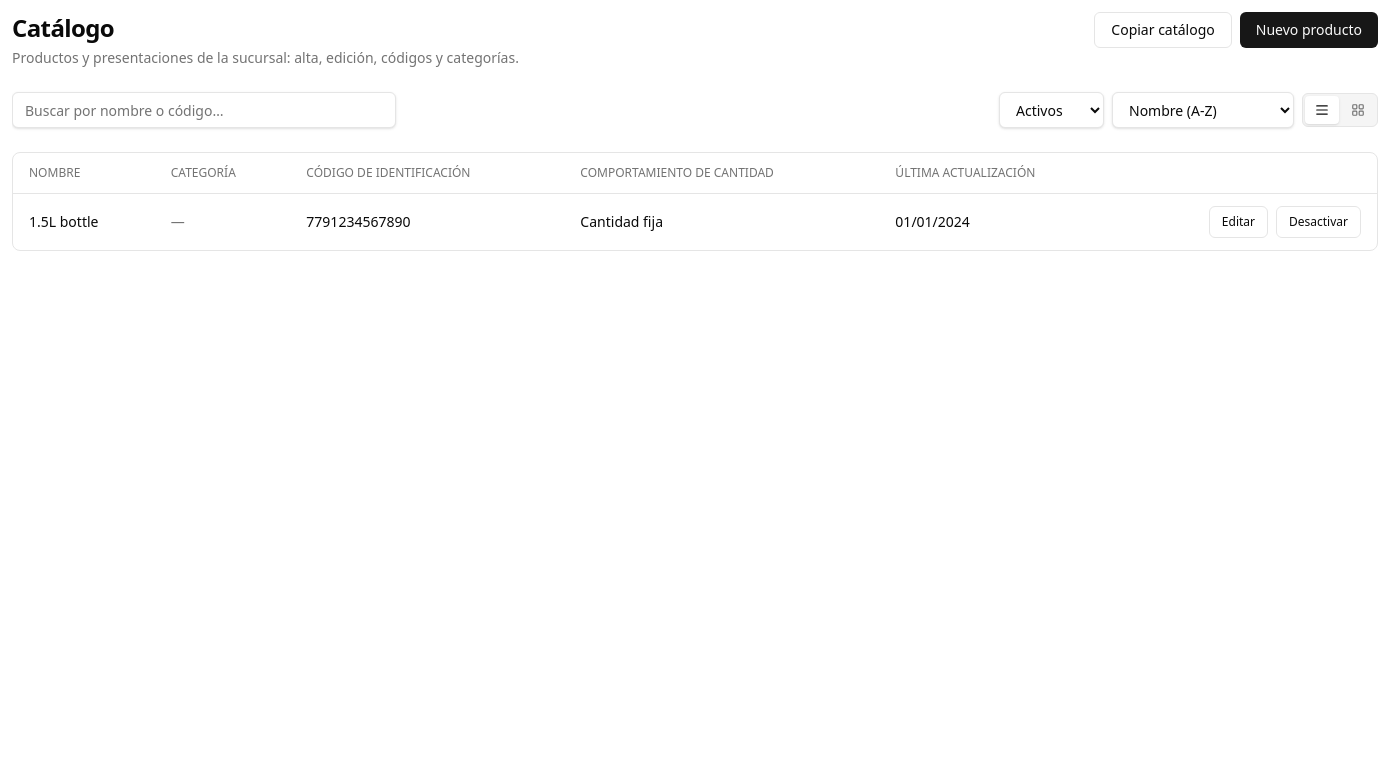
CatalogScreen — copy catalog to another branch › copies the whole catalog to the chosen branch and reports copied and skipped items
Check: the text "1.5L bottle" is shown, box [29,212,98,232]
Click the button "Copiar catálogo" at (1163, 30), box [1094,12,1232,48]
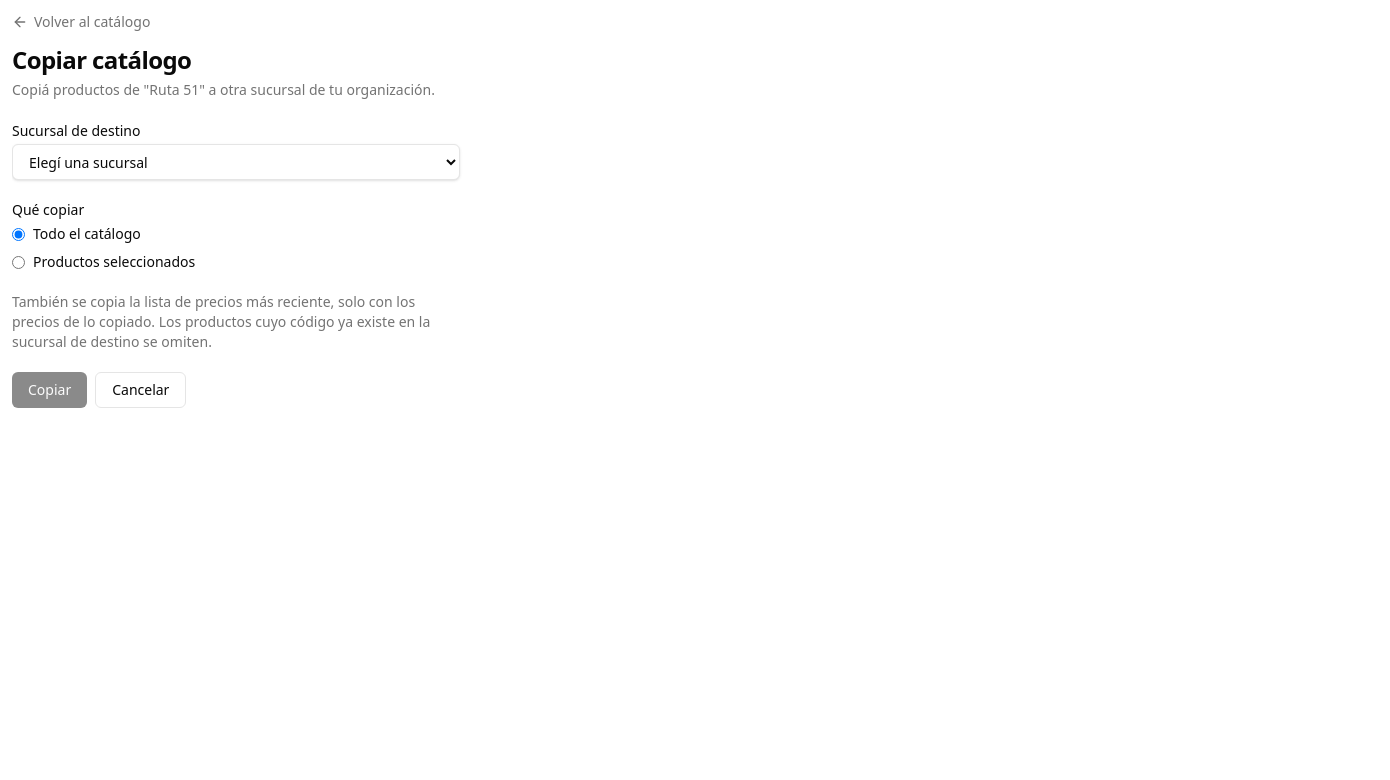
Check: the button "Copiar" is disabled, box [12,372,87,408]
Select "Centro" in the dropdown labelled "Sucursal de destino" at (236, 162), box [12,144,460,180]
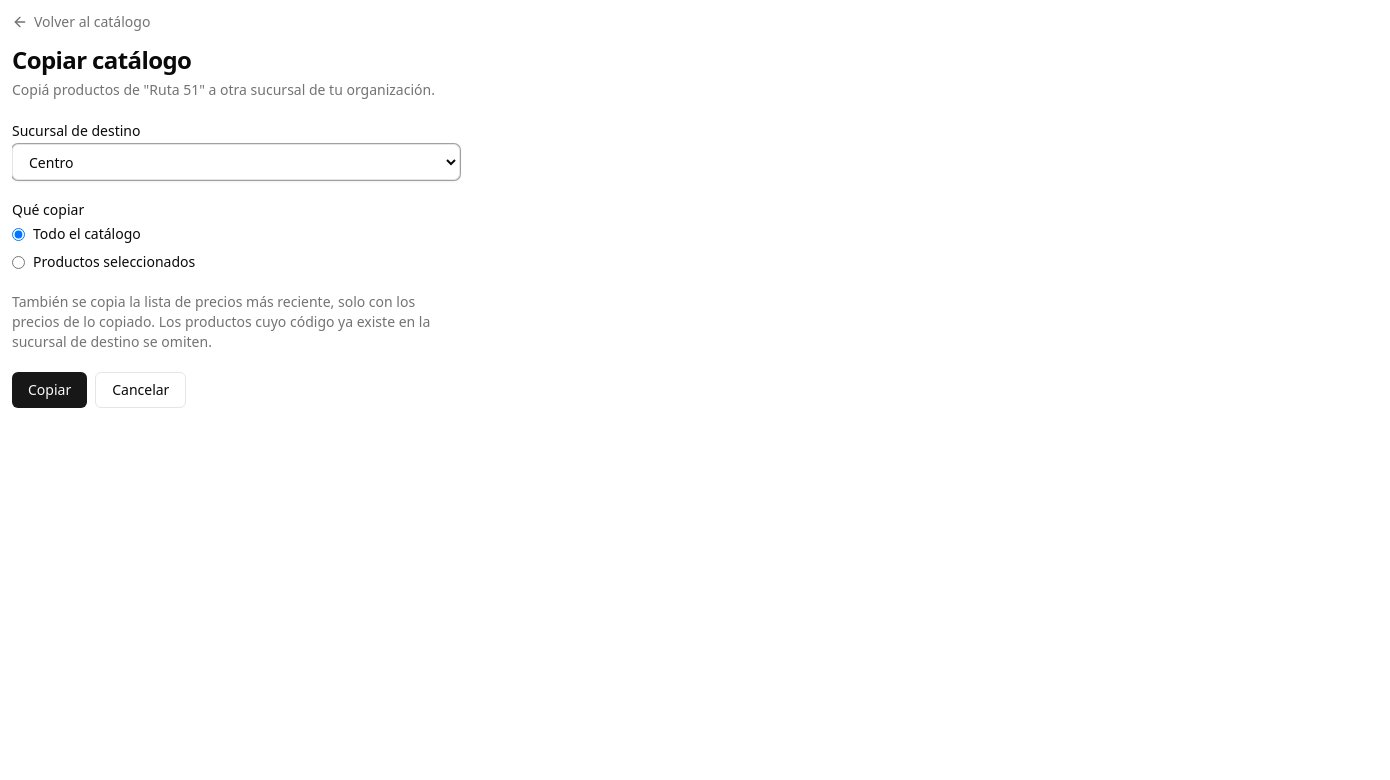
Click the button "Copiar" at (50, 390), box [12,372,87,408]
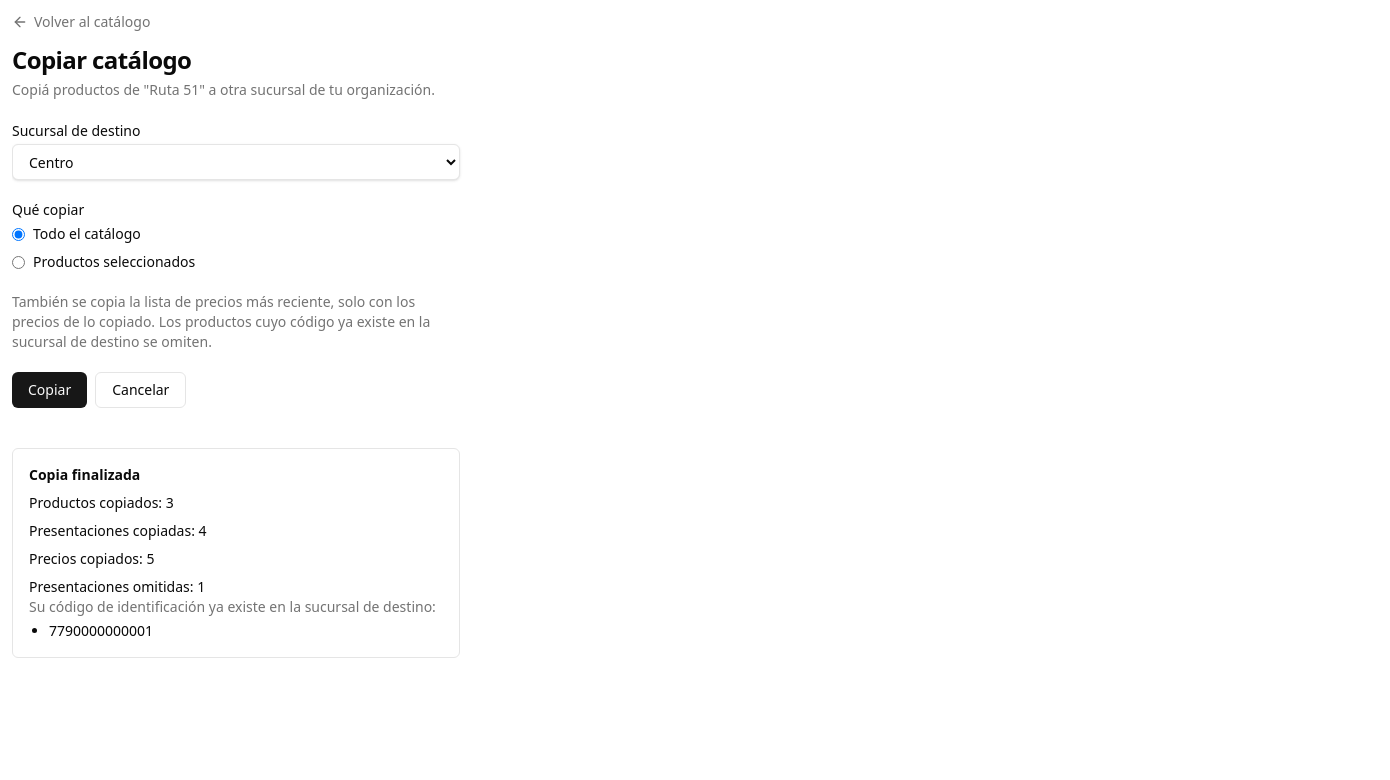
Check: the text "Productos copiados: 3" is shown, box [29,493,174,512]
Check: the text "Presentaciones copiadas: 4" is shown, box [29,521,207,540]
Check: the text "Precios copiados: 5" is shown, box [29,549,154,568]
